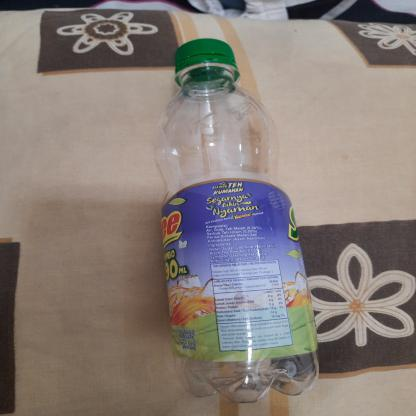bottle: (154, 35, 322, 407)
